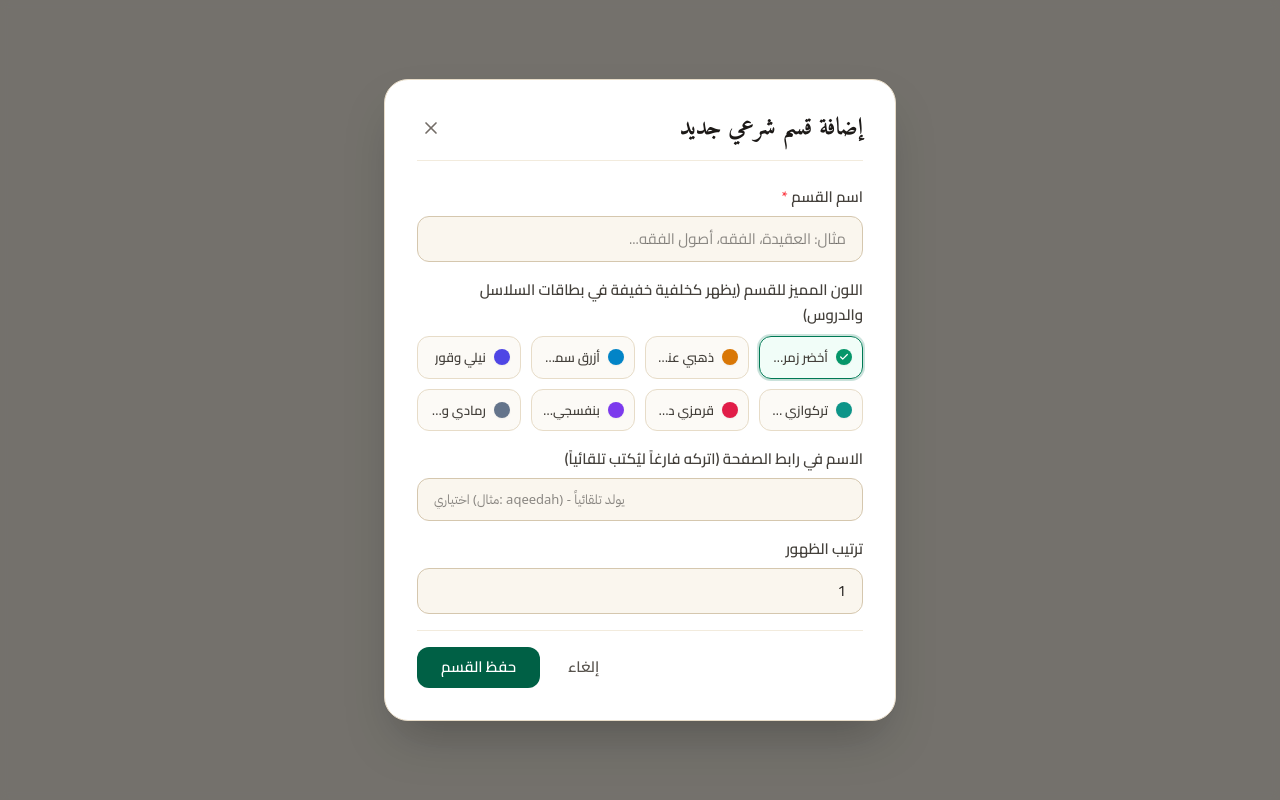
Scenario: CategoryModal › shows the save error and stays open
Type "س" into the field with placeholder "مثال: العقيدة، الفقه، أصول الفقه..." at (640, 239), box [417,216,863,262]
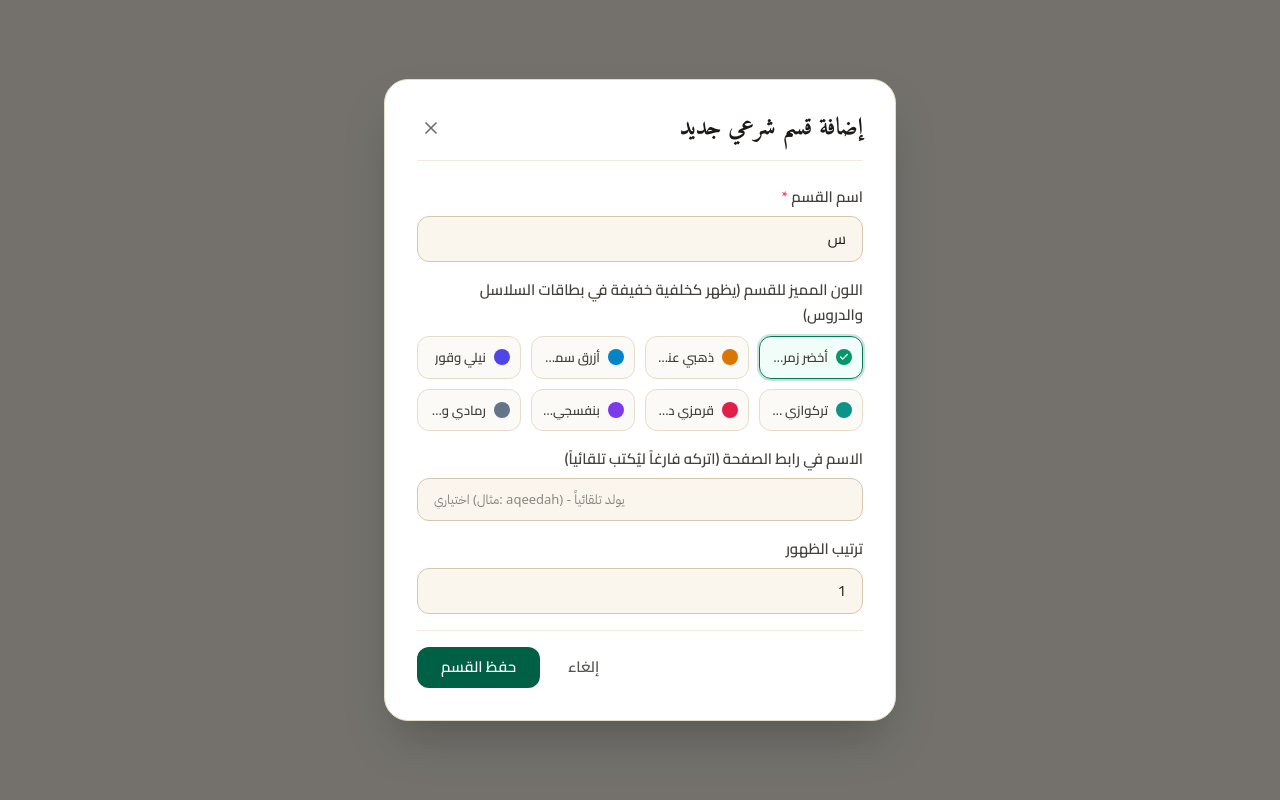
Submit the form, box [417,185,863,688]
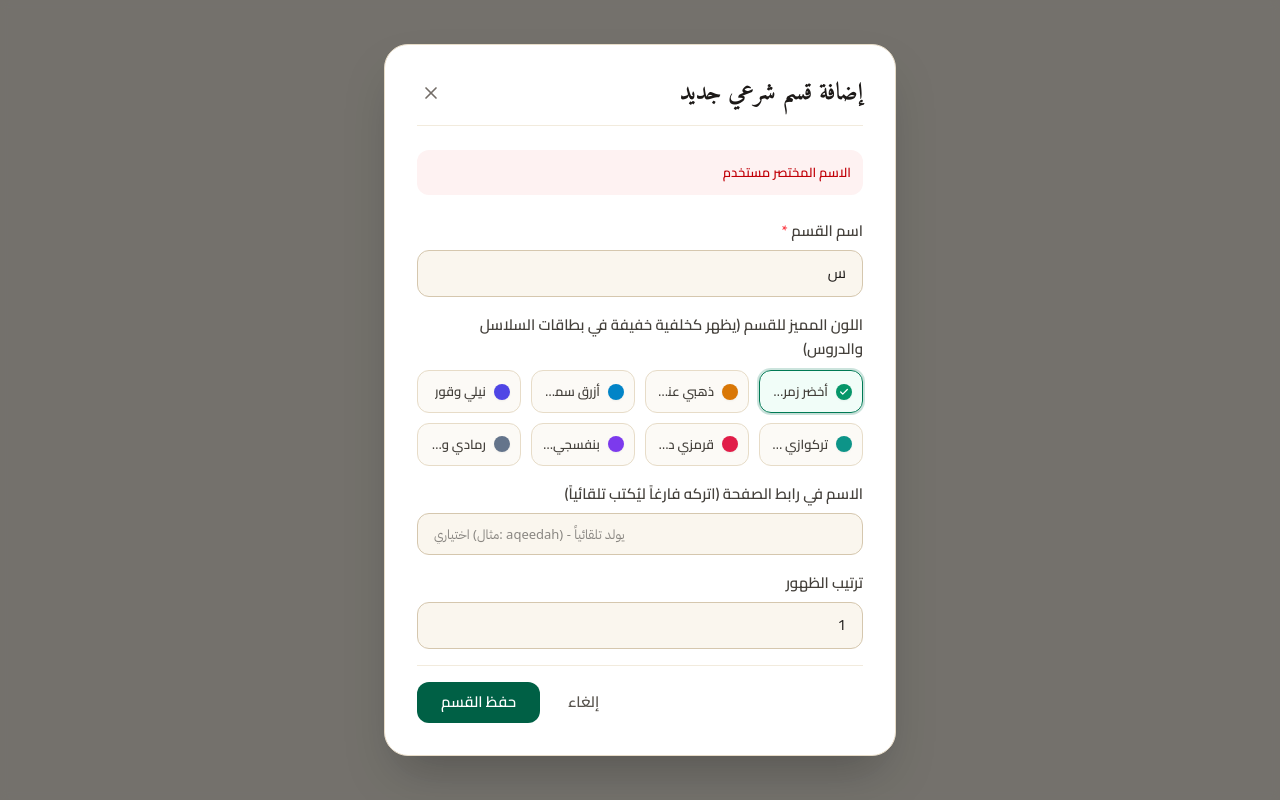
Result: the text "الاسم المختصر مستخدم" is shown at [417,150,863,195]
